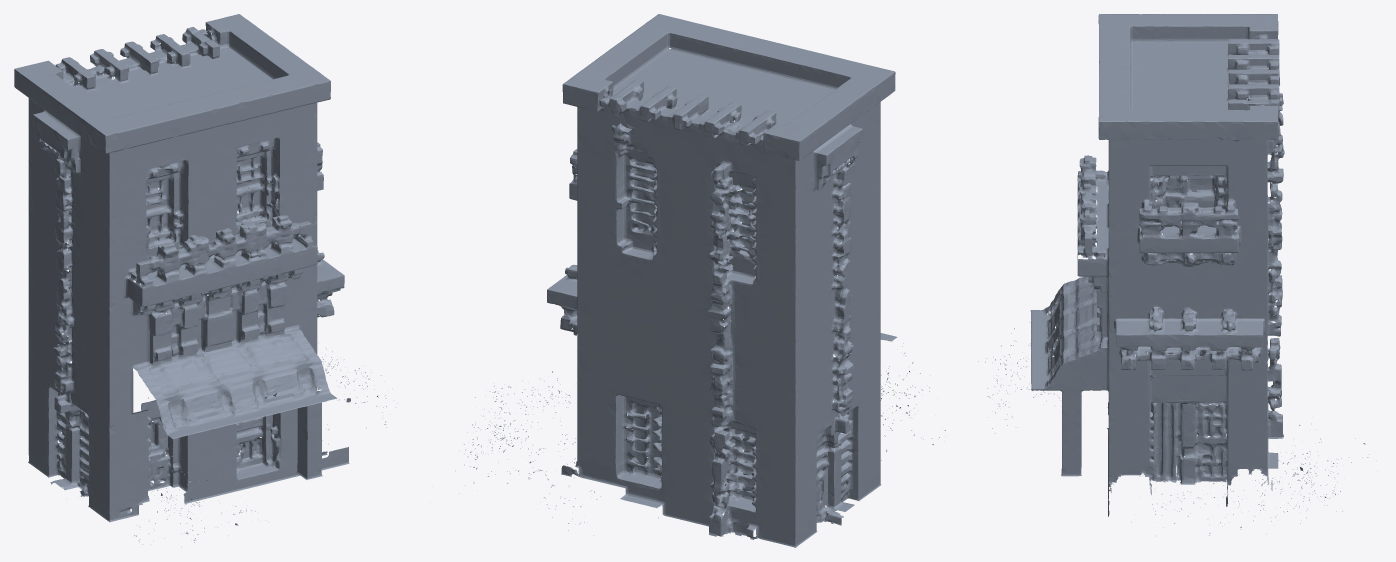
Rendered from block-02-building-5.glb.
3 views of the same model, side by side, from view 1: azimuth 30°, elevation 25°; view 2: azimuth 150°, elevation 25°; view 3: azimuth 270°, elevation 25° (orthographic). The views are drawn at different scales.
Parts seen in each view (by area): view 1: building_5; view 2: building_5; view 3: building_5.
Boxes of the visible parts, x1,y1,x2,y2 form: building_5: (14, 14, 397, 544); building_5: (459, 14, 945, 547); building_5: (978, 14, 1369, 535).
Bounding box in the file's own units: 0.5653 × 0.6259 × 0.593.
